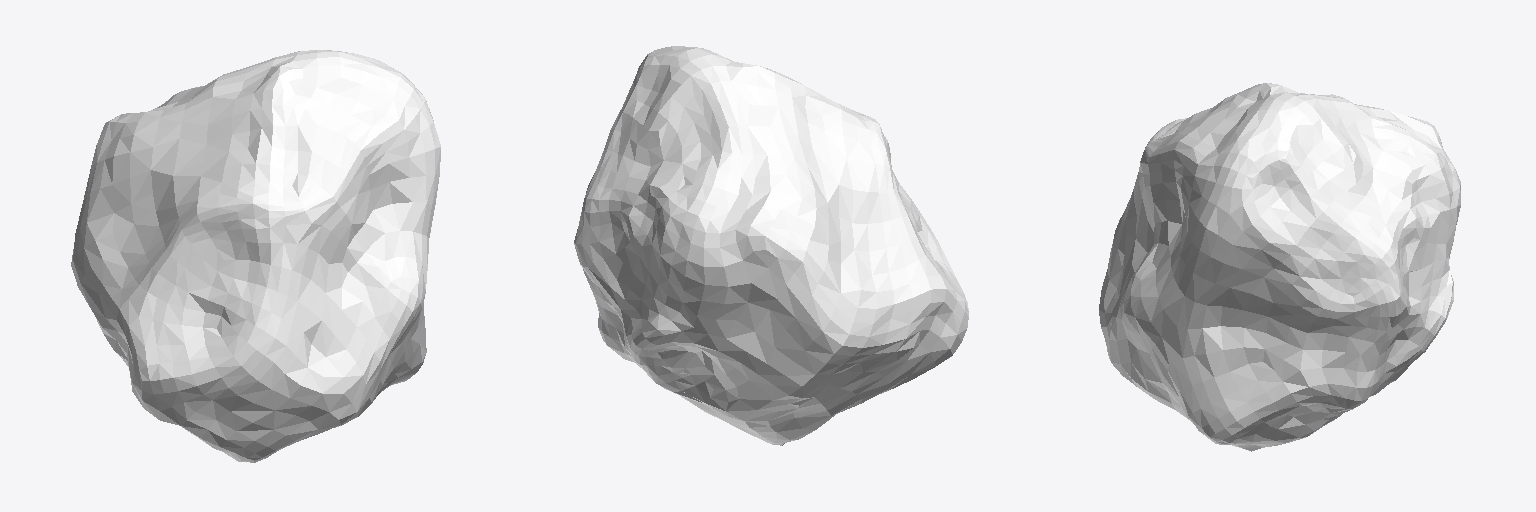
Rendered from asteroid2.obj.
3 views of the same model, side by side, from view 1: azimuth 30°, elevation 25°; view 2: azimuth 150°, elevation 25°; view 3: azimuth 270°, elevation 25° (orthographic).
Visible parts, largest first — view 1: asteroid; view 2: asteroid; view 3: asteroid.
Boxes of the visible parts, x1,y1,x2,y2 form: asteroid: [71, 50, 440, 462]; asteroid: [574, 46, 968, 445]; asteroid: [1099, 83, 1460, 451].
Bounding box in the file's own units: 0.8868 × 1 × 0.8846.